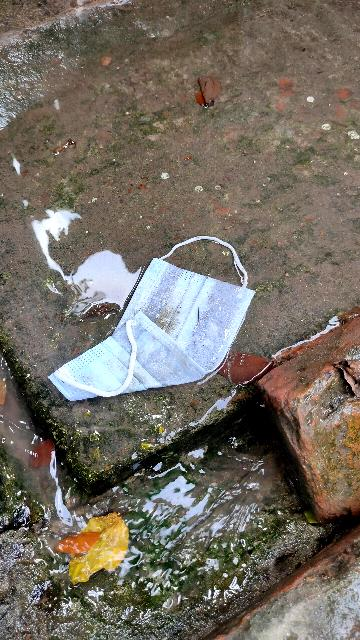mask: (28, 192, 296, 482)
